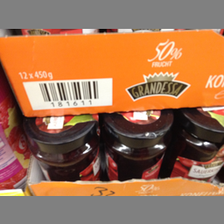jam: (24, 114, 102, 180), (104, 111, 173, 180), (172, 108, 224, 182)
